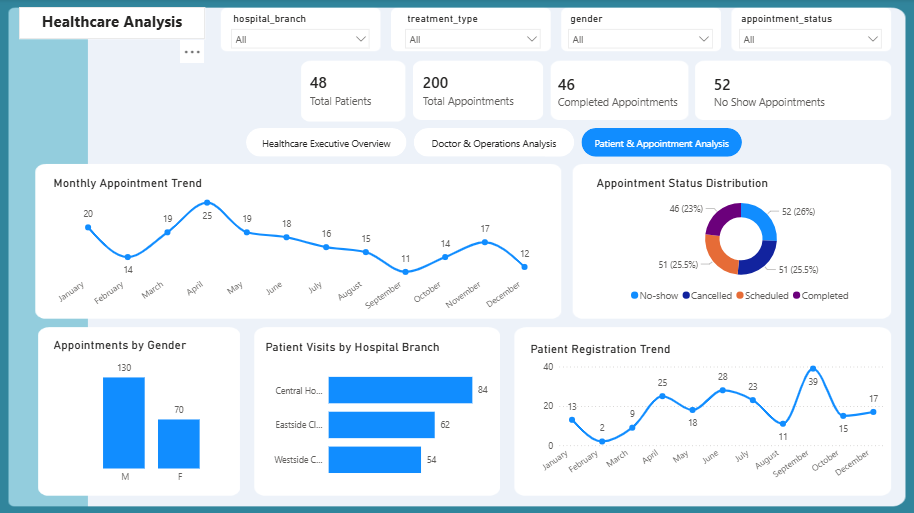

This screenshot's page, from the dashboard's own definition file:
{"tool":"powerbi","page":{"name":"Patient & Appointment Analysis","canvas":[1280,720],"ordinal":2},"visuals":[{"type":"cardVisual","fields":{"Data":["healthcare_analysis_view.Total Patients"]},"box":[406,83.7,157.7,86.5],"z":0},{"type":"cardVisual","fields":{"Data":["healthcare_analysis_view.Total Appointments"]},"box":[563.7,83.7,198.1,86.5],"z":1000},{"type":"slicer","fields":{"Values":["healthcare_analysis_view.hospital_branch"]},"box":[315.3,14,213.5,68.4],"z":2000},{"type":"slicer","fields":{"Values":["healthcare_analysis_view.treatment_type"]},"box":[558.1,14,209.3,69.8],"z":3000},{"type":"slicer","fields":{"Values":["healthcare_analysis_view.gender"]},"box":[785.6,14,221.9,68.4],"z":4000},{"type":"slicer","fields":{"Values":["healthcare_analysis_view.appointment_status"]},"box":[1024.2,14,219.1,68.4],"z":5000},{"type":"cardVisual","fields":{"Data":["healthcare_analysis_view.Completed Appointments"]},"box":[752.1,83.7,233,89.3],"z":6000},{"type":"cardVisual","fields":{"Data":["healthcare_analysis_view.No Show Appointments"]},"box":[969.8,83.7,238.6,90.7],"z":7000},{"type":"lineChart","title":"Monthly Appointment Trend","fields":{"Category":["healthcare_analysis_view.appointment_date.Variation.Date Hierarchy.Month"],"Y":["CountNonNull(healthcare_analysis_view.appointment_id)"]},"box":[72.6,247,689.3,203.7],"z":8000},{"type":"donutChart","title":"Appointment Status Distribution","fields":{"Category":["healthcare_analysis_view.appointment_status"],"Y":["CountNonNull(healthcare_analysis_view.appointment_id)"]},"box":[830.2,247,413,185.6],"z":9000},{"type":"clusteredColumnChart","title":"Appointments by Gender","fields":{"Category":["healthcare_analysis_view.gender"],"Y":["CountNonNull(healthcare_analysis_view.appointment_id)"]},"box":[72.6,473,286,212.1],"z":10000},{"type":"clusteredBarChart","title":"Patient Visits by Hospital Branch","fields":{"Category":["healthcare_analysis_view.hospital_branch"],"Y":["CountNonNull(healthcare_analysis_view.appointment_id)"]},"box":[368.4,475.8,320.9,212.1],"z":11000},{"type":"lineChart","title":"Patient Registration Trend","fields":{"Category":["healthcare_analysis_view.registration_date.Variation.Date Hierarchy.Month"],"Y":["CountNonNull(healthcare_analysis_view.patient_id)"]},"box":[738.1,478.6,505.1,209.3],"z":12000},{"type":"pageNavigator","box":[346,180,694.9,40.5],"z":13000},{"type":"textbox","box":[29.3,11.2,259.5,44.7],"z":14000}]}

Visuals, with their boxes in screenshot pixels (x1, y1, x2, y2), scaled from the page's 1280x720 canvas onto the 914x513 screenshot:
cardVisual - healthcare_analysis_view.Total Patients: [x1=290, y1=60, x2=403, y2=121]
cardVisual - healthcare_analysis_view.Total Appointments: [x1=403, y1=60, x2=544, y2=121]
slicer - healthcare_analysis_view.hospital_branch: [x1=225, y1=10, x2=378, y2=59]
slicer - healthcare_analysis_view.treatment_type: [x1=399, y1=10, x2=548, y2=60]
slicer - healthcare_analysis_view.gender: [x1=561, y1=10, x2=719, y2=59]
slicer - healthcare_analysis_view.appointment_status: [x1=731, y1=10, x2=888, y2=59]
cardVisual - healthcare_analysis_view.Completed Appointments: [x1=537, y1=60, x2=703, y2=123]
cardVisual - healthcare_analysis_view.No Show Appointments: [x1=692, y1=60, x2=863, y2=124]
"Monthly Appointment Trend" lineChart: [x1=52, y1=176, x2=544, y2=321]
"Appointment Status Distribution" donutChart: [x1=593, y1=176, x2=888, y2=308]
"Appointments by Gender" clusteredColumnChart: [x1=52, y1=337, x2=256, y2=488]
"Patient Visits by Hospital Branch" clusteredBarChart: [x1=263, y1=339, x2=492, y2=490]
"Patient Registration Trend" lineChart: [x1=527, y1=341, x2=888, y2=490]
pageNavigator: [x1=247, y1=128, x2=743, y2=157]
textbox: [x1=21, y1=8, x2=206, y2=40]
